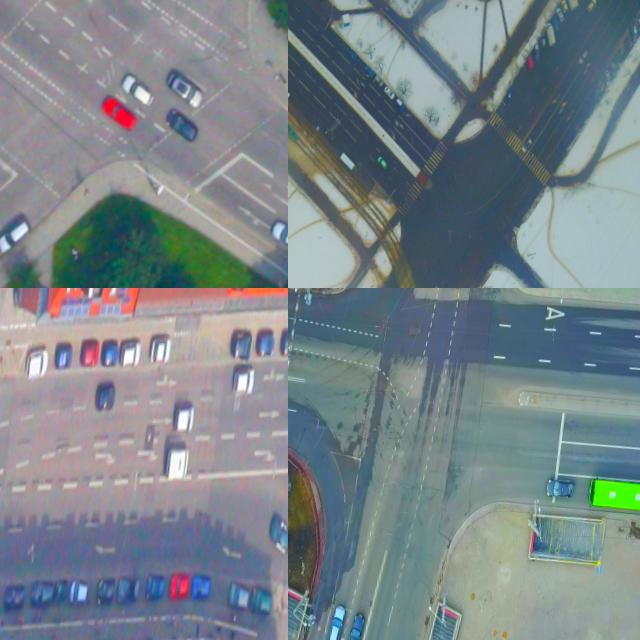UAI: (163, 69, 209, 111), (99, 93, 142, 133), (120, 73, 159, 110), (164, 108, 203, 144), (0, 216, 32, 257), (324, 600, 349, 640), (266, 511, 288, 556), (24, 346, 50, 381), (116, 573, 142, 606), (545, 477, 578, 503), (3, 580, 27, 613), (268, 217, 288, 256), (233, 365, 257, 397), (30, 579, 55, 609), (53, 338, 75, 371), (249, 587, 273, 617), (173, 403, 196, 434), (95, 380, 117, 411), (79, 337, 101, 368), (96, 576, 117, 608), (145, 571, 166, 602), (120, 340, 143, 368), (228, 582, 251, 610), (169, 573, 191, 602), (231, 331, 253, 359), (191, 573, 212, 602), (150, 337, 172, 363), (256, 329, 276, 357), (69, 580, 90, 606), (101, 340, 120, 367), (53, 577, 69, 607), (278, 325, 288, 356), (628, 23, 640, 44), (344, 47, 359, 62), (393, 97, 407, 113), (578, 48, 590, 66), (383, 85, 397, 100), (603, 69, 614, 87), (608, 62, 619, 80), (376, 156, 389, 170), (363, 64, 376, 78), (532, 43, 542, 61), (555, 7, 567, 22), (521, 138, 532, 154), (526, 57, 536, 73), (373, 74, 385, 87), (586, 0, 598, 13), (559, 0, 570, 13), (539, 34, 548, 49), (506, 88, 514, 103), (635, 18, 640, 35), (428, 284, 439, 288)
UAP: (563, 0, 581, 12)
car: (585, 471, 640, 523)
harvester: (164, 444, 191, 482), (543, 22, 559, 48)
